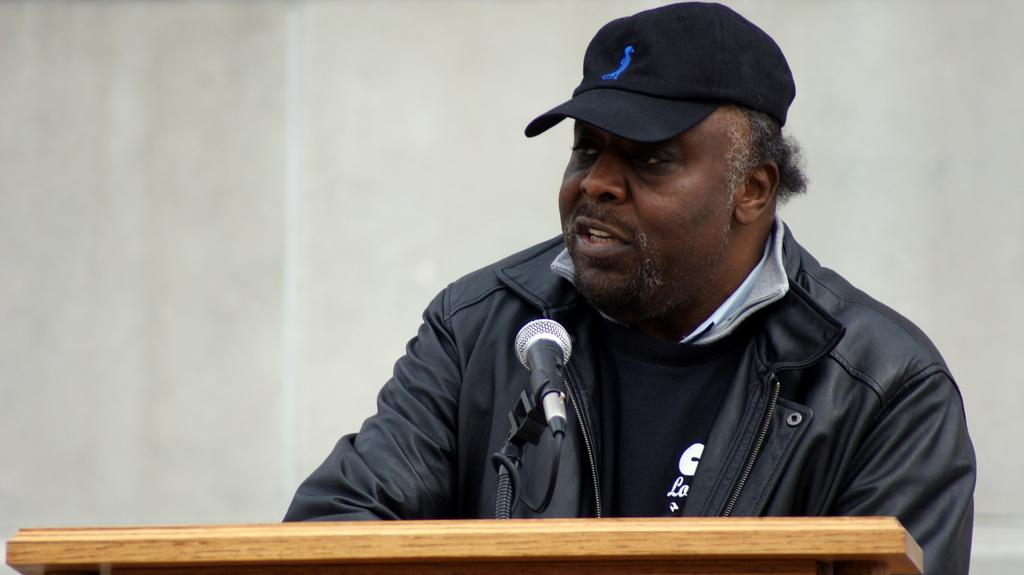Hat: (522, 0, 800, 141)
